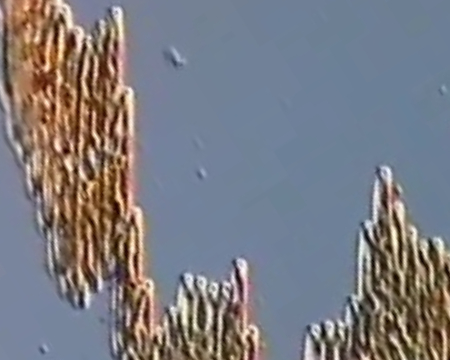fil: (72, 25, 89, 309), (58, 3, 72, 300), (105, 6, 120, 281), (92, 21, 106, 290), (374, 166, 392, 360), (391, 183, 410, 360), (42, 1, 54, 276), (426, 239, 445, 360), (358, 219, 374, 360), (122, 85, 133, 275), (408, 225, 422, 360), (418, 237, 433, 360), (232, 260, 248, 360), (130, 206, 140, 360), (180, 273, 194, 360), (196, 275, 209, 360), (340, 295, 357, 359), (143, 278, 151, 360), (307, 323, 321, 360), (165, 304, 174, 360), (323, 319, 335, 360), (250, 323, 259, 359)
